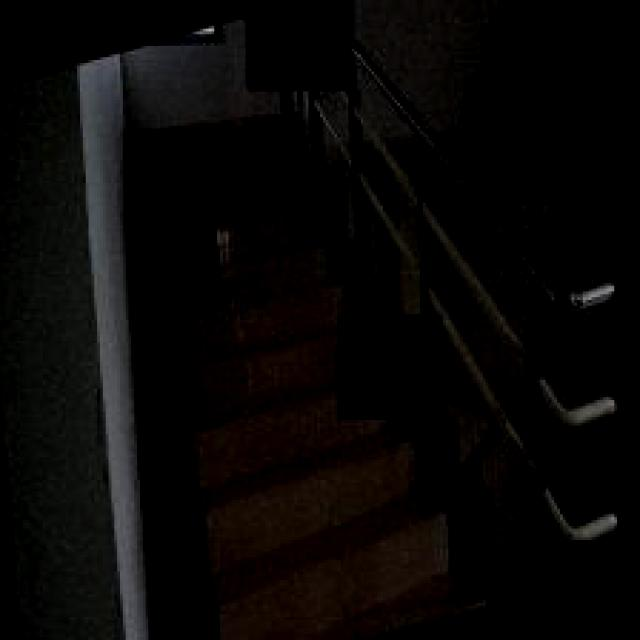upstair: (138, 418, 455, 640)
